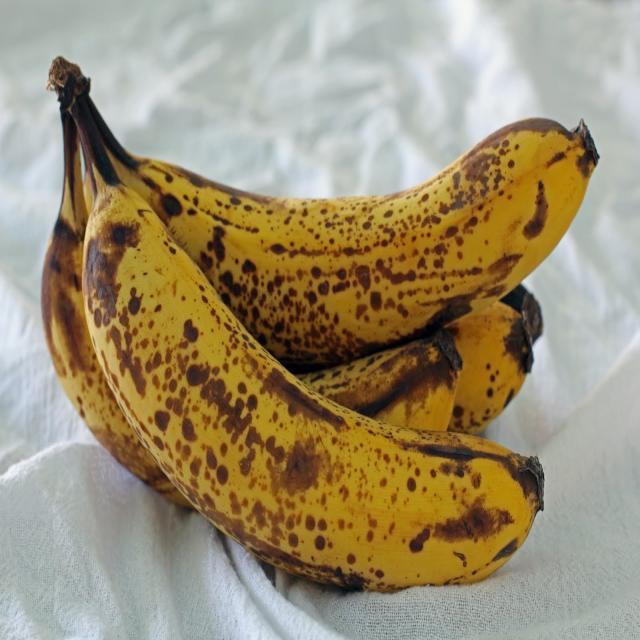Banana: (25, 19, 607, 613)
